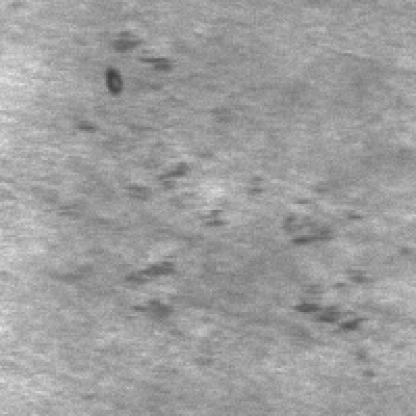rolled-in_scale: (94, 141, 245, 342), (275, 146, 389, 362)
